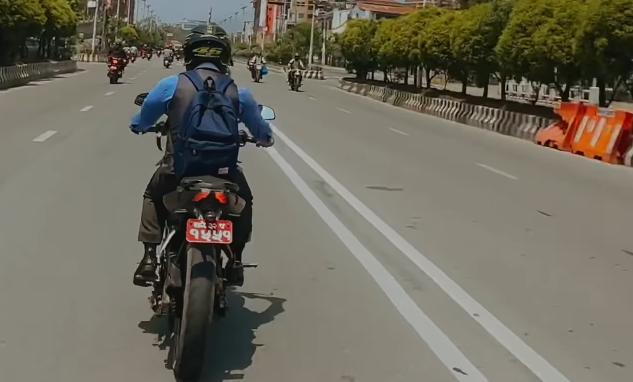bike: (127, 87, 289, 382)
